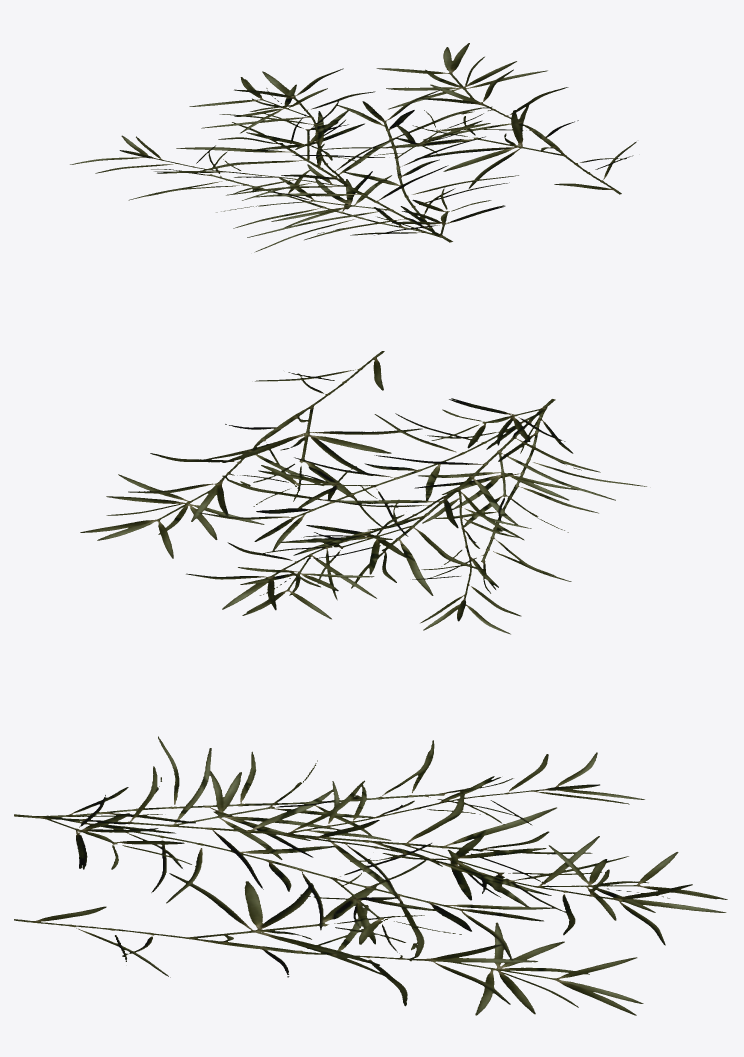
File: MEP_Reeds_01.fbx
3 renders of one model, top to bottom at view 1: azimuth 30°, elevation 25°; view 2: azimuth 150°, elevation 25°; view 3: azimuth 270°, elevation 25°, orthographic. The views are drawn at different scales.
Visible parts, largest first — view 1: MEP_Reeds_01; view 2: MEP_Reeds_01; view 3: MEP_Reeds_01.
Part boxes in pixels (x1,y1,x2,y2): MEP_Reeds_01: (70,43,636,252); MEP_Reeds_01: (80,351,646,634); MEP_Reeds_01: (14,736,727,1015).
Size of the model in its own units: 0.9698 by 0.1116 by 0.9629.
Materials: 1 (1 with a texture image).
